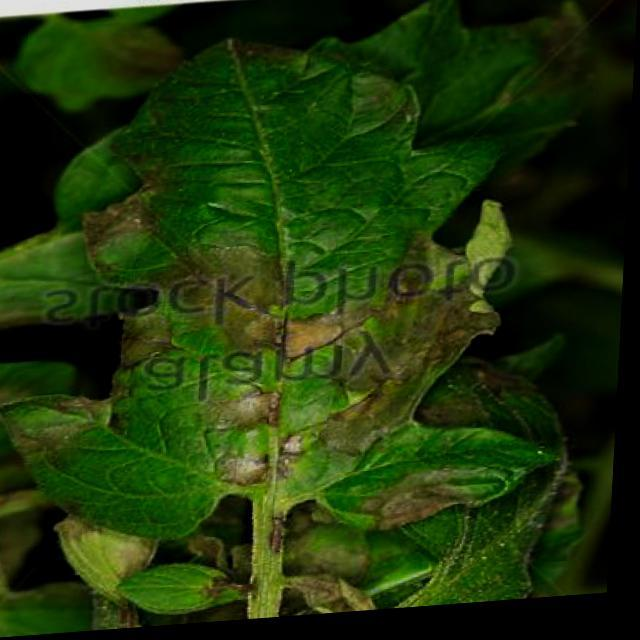Tomato mosaic virus leaf: (0, 2, 585, 580)
